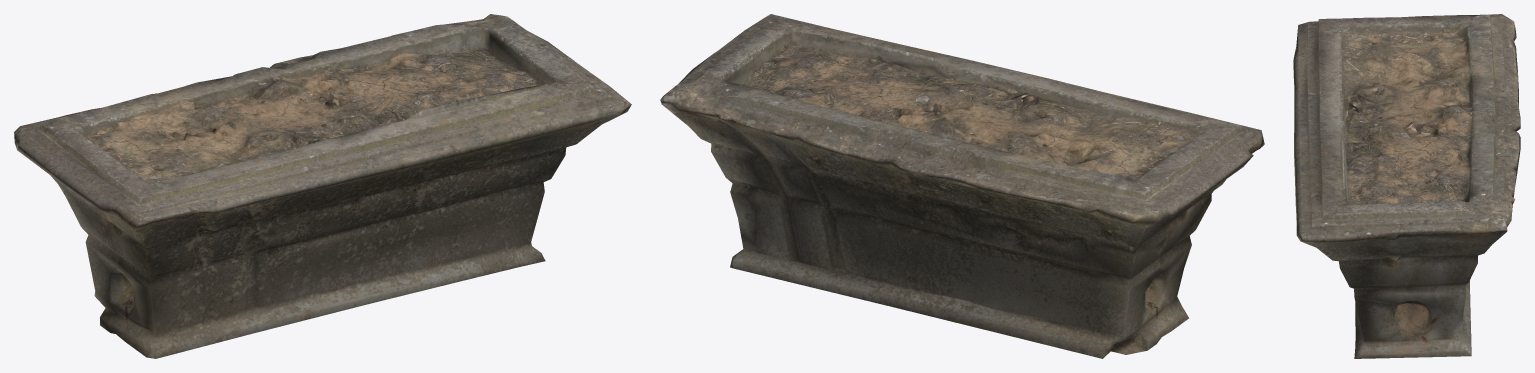
File: PX_Discarded_Flower_Pot_01_LOD4.fbx
3 renders of one model, left to right at view 1: azimuth 30°, elevation 25°; view 2: azimuth 150°, elevation 25°; view 3: azimuth 270°, elevation 25°, orthographic. The views are drawn at different scales.
Visible parts, largest first — view 1: PX_Discarded_Flower_Pot_01_LOD4; view 2: PX_Discarded_Flower_Pot_01_LOD4; view 3: PX_Discarded_Flower_Pot_01_LOD4.
Part boxes in pixels (x1,y1,x2,y2): PX_Discarded_Flower_Pot_01_LOD4: [14, 14, 631, 358]; PX_Discarded_Flower_Pot_01_LOD4: [660, 14, 1264, 358]; PX_Discarded_Flower_Pot_01_LOD4: [1293, 14, 1520, 358].
Bounding box in the file's own units: 149 × 52.73 × 65.88.
